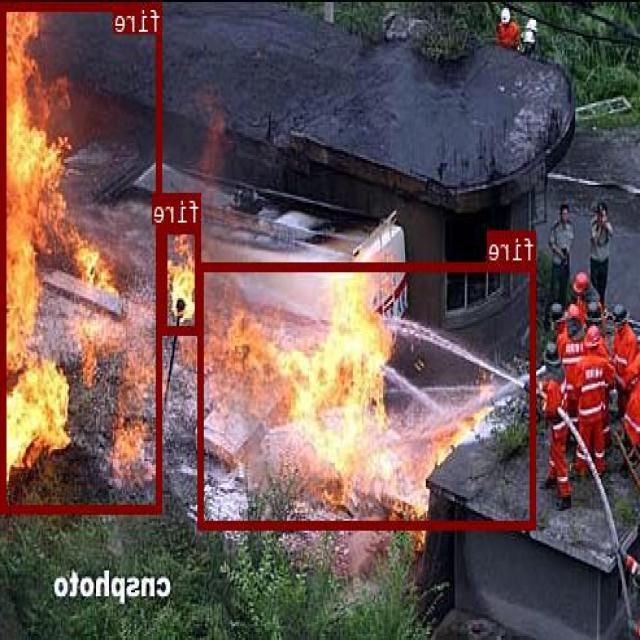fire: (200, 261, 537, 528), (2, 1, 164, 511), (163, 224, 202, 332)
